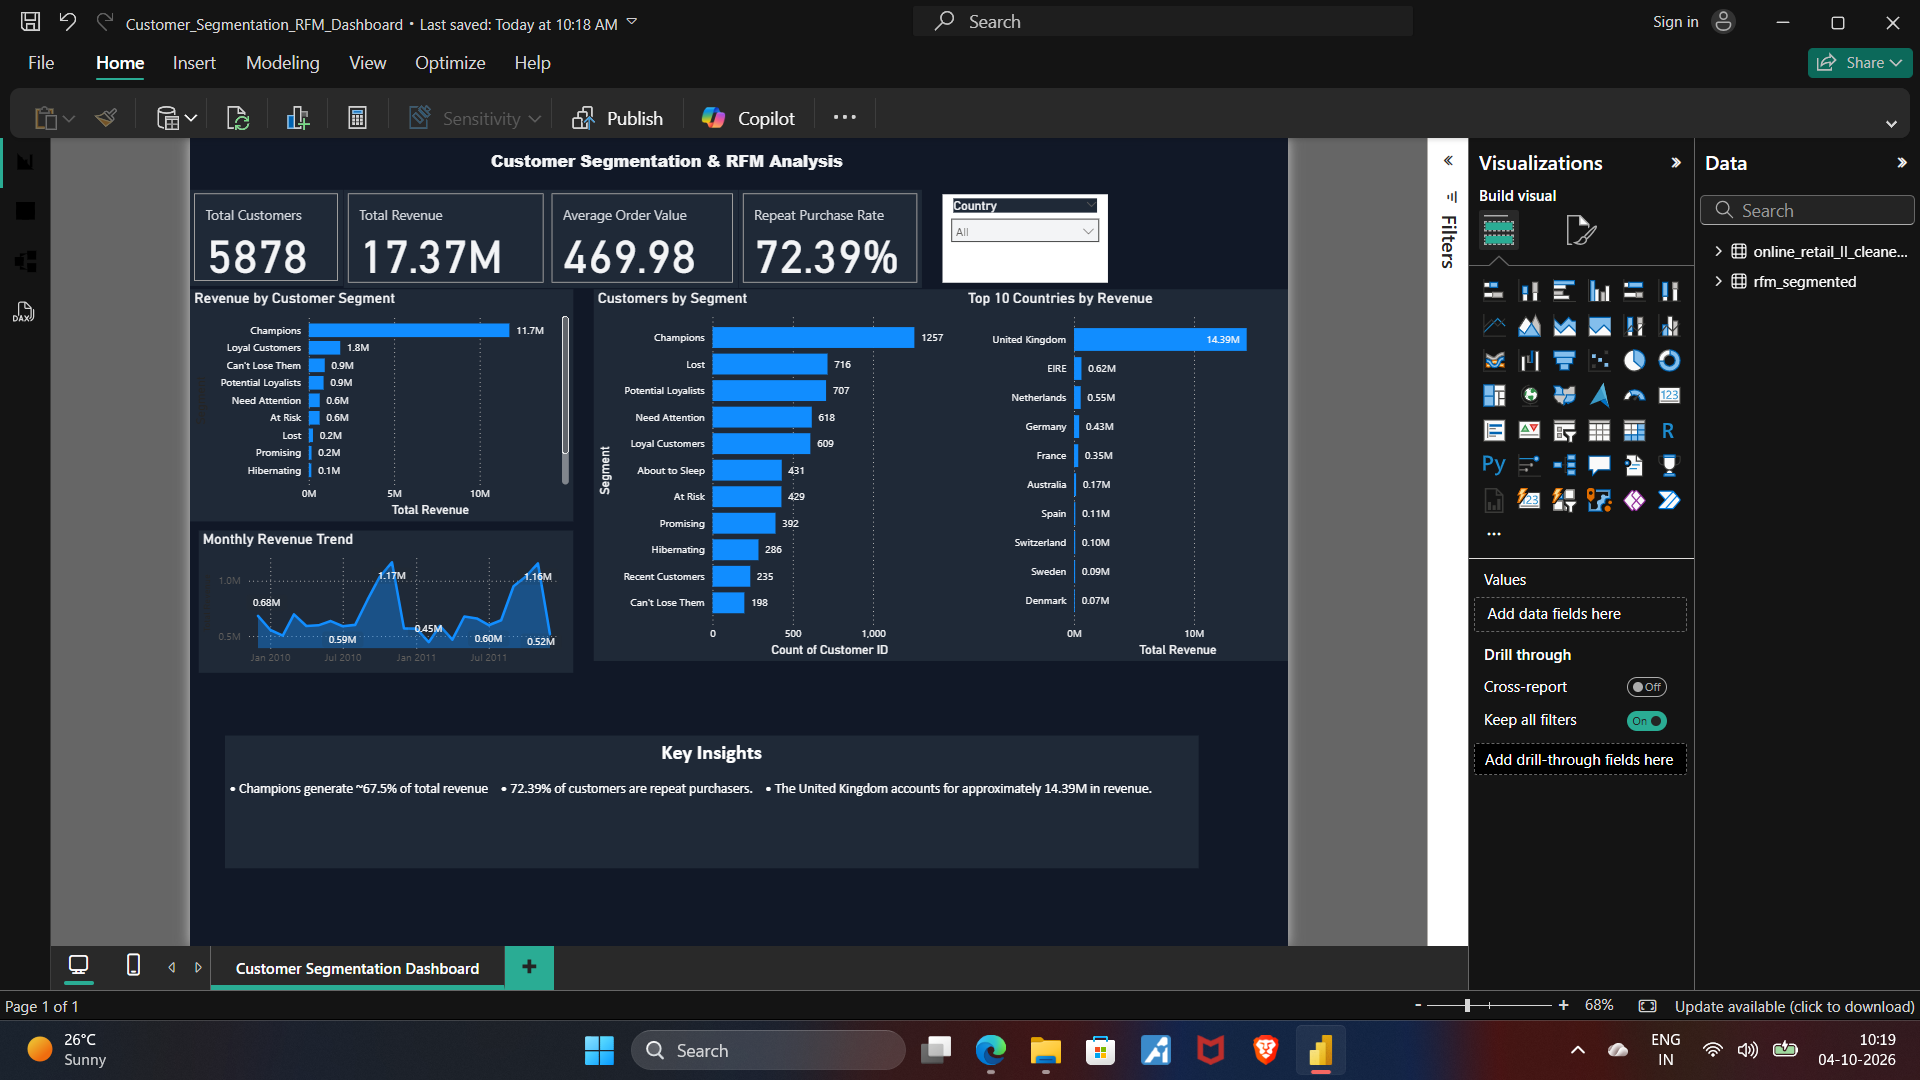

Layout of this report page (visuals, bound fields, positions):
{"tool":"powerbi","page":{"name":"Customer Segmentation Dashboard","canvas":[1290,950],"ordinal":0},"visuals":[{"type":"cardVisual","fields":{"Data":["online_retail_II_cleaned_rfm.Total Customers"]},"box":[0,59.9,179.7,113.3],"z":0},{"type":"cardVisual","fields":{"Data":["online_retail_II_cleaned_rfm.Total Revenue"]},"box":[180.4,61,240.1,115.7],"z":1000},{"type":"cardVisual","fields":{"Data":["online_retail_II_cleaned_rfm.Average Order Value"]},"box":[420.5,61,223.9,115.7],"z":2000},{"type":"cardVisual","fields":{"Data":["online_retail_II_cleaned_rfm.Repeat Purchase Rate"]},"box":[644.4,61,215.2,115.7],"z":3000},{"type":"clusteredBarChart","title":"Revenue by Customer Segment","fields":{"Category":["rfm_segmented.Segment"],"Y":["online_retail_II_cleaned_rfm.Total Revenue"]},"box":[0,177.9,450.3,272.4],"z":4000},{"type":"clusteredBarChart","title":"Customers by Segment","fields":{"Category":["rfm_segmented.Segment"],"Y":["Count(rfm_segmented.Customer ID)"]},"box":[474.3,177.3,435,436.6],"z":5000},{"type":"lineChart","title":"Monthly Revenue Trend","fields":{"Category":["online_retail_II_cleaned_rfm.InvoiceDate.Variation.Date Hierarchy.Year","online_retail_II_cleaned_rfm.InvoiceDate.Variation.Date Hierarchy.Month"],"Y":["online_retail_II_cleaned_rfm.Total Revenue"]},"box":[9.8,461.2,439.9,167.4],"z":6000},{"type":"clusteredBarChart","title":"Top 10 Countries by Revenue","fields":{"Category":["online_retail_II_cleaned_rfm.Country"],"Y":["online_retail_II_cleaned_rfm.Total Revenue"]},"box":[909.3,177.3,390.6,436.6],"z":7000},{"type":"textbox","box":[0,8.7,1120.8,52.2],"z":8000},{"type":"slicer","fields":{"Values":["online_retail_II_cleaned_rfm.Country"]},"box":[884,66.4,194.3,103.6],"z":9000},{"type":"textbox","box":[41,702.5,1144,155.9],"z":10000}]}

Visuals, with their boxes on the page's 1290x950 design canvas (x1, y1, x2, y2). These are canvas units, not pixel positions in the 1920x1080 screenshot, which may show the page scaled, cropped or inside an application window:
cardVisual - online_retail_II_cleaned_rfm.Total Customers: l=0, t=60, r=180, b=173
cardVisual - online_retail_II_cleaned_rfm.Total Revenue: l=180, t=61, r=420, b=177
cardVisual - online_retail_II_cleaned_rfm.Average Order Value: l=420, t=61, r=644, b=177
cardVisual - online_retail_II_cleaned_rfm.Repeat Purchase Rate: l=644, t=61, r=860, b=177
"Revenue by Customer Segment" clusteredBarChart: l=0, t=178, r=450, b=450
"Customers by Segment" clusteredBarChart: l=474, t=177, r=909, b=614
"Monthly Revenue Trend" lineChart: l=10, t=461, r=450, b=629
"Top 10 Countries by Revenue" clusteredBarChart: l=909, t=177, r=1300, b=614
textbox: l=0, t=9, r=1121, b=61
slicer - online_retail_II_cleaned_rfm.Country: l=884, t=66, r=1078, b=170
textbox: l=41, t=702, r=1185, b=858
